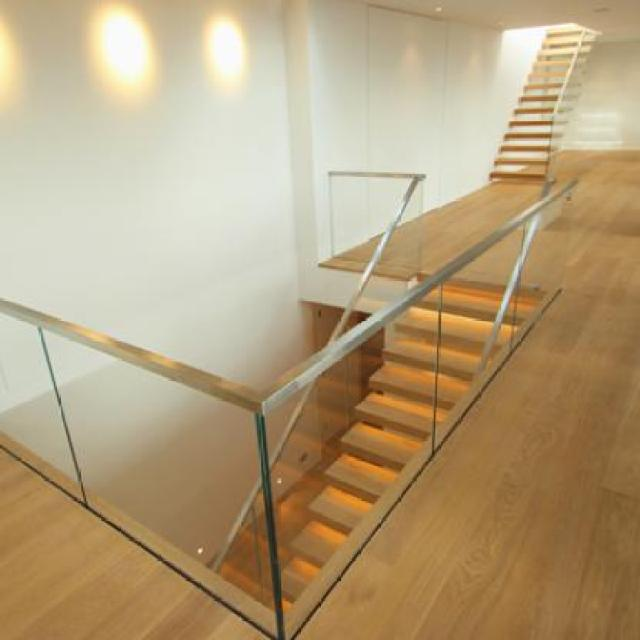stair: (171, 262, 566, 623), (460, 24, 620, 176)
